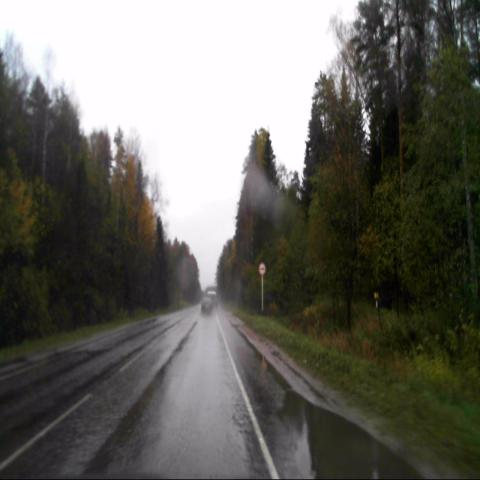3_20: (258, 262, 266, 275)
